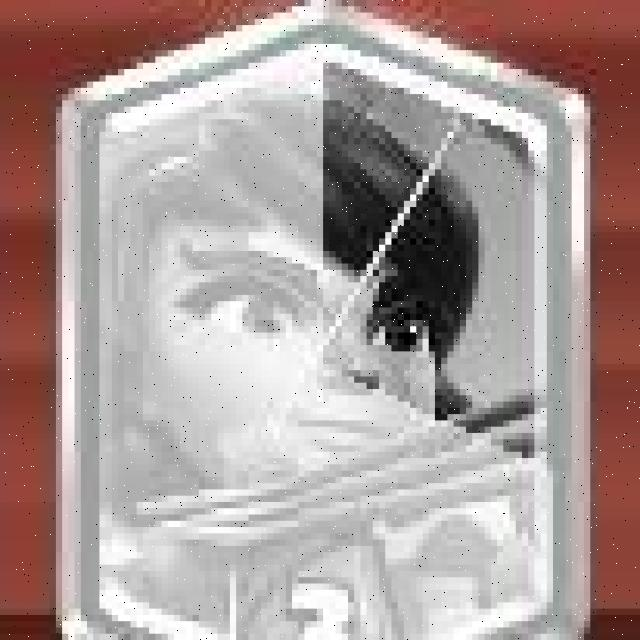Princess: (69, 11, 592, 640)
